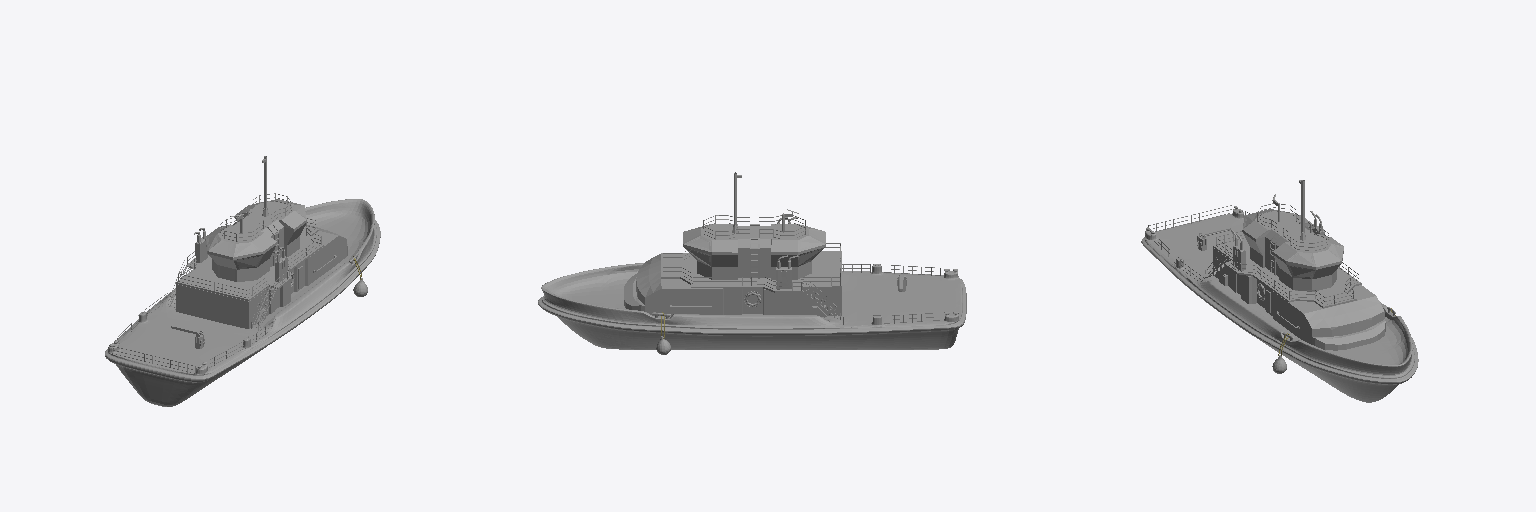
The picture shows the model from 3 angles: view 1: azimuth 30°, elevation 25°; view 2: azimuth 150°, elevation 25°; view 3: azimuth 270°, elevation 25°; orthographic projection.
Visible parts, largest first — view 1: Ship_Plane.005; view 2: Ship_Plane.005; view 3: Ship_Plane.005.
Part boxes in pixels (left/top/right/bottom): Ship_Plane.005: left=105, top=156, right=380, bottom=406; Ship_Plane.005: left=538, top=172, right=966, bottom=354; Ship_Plane.005: left=1141, top=180, right=1418, bottom=402.
Size of the model in its own units: 22.68 by 10.87 by 15.87.
15 materials, 1 textured.